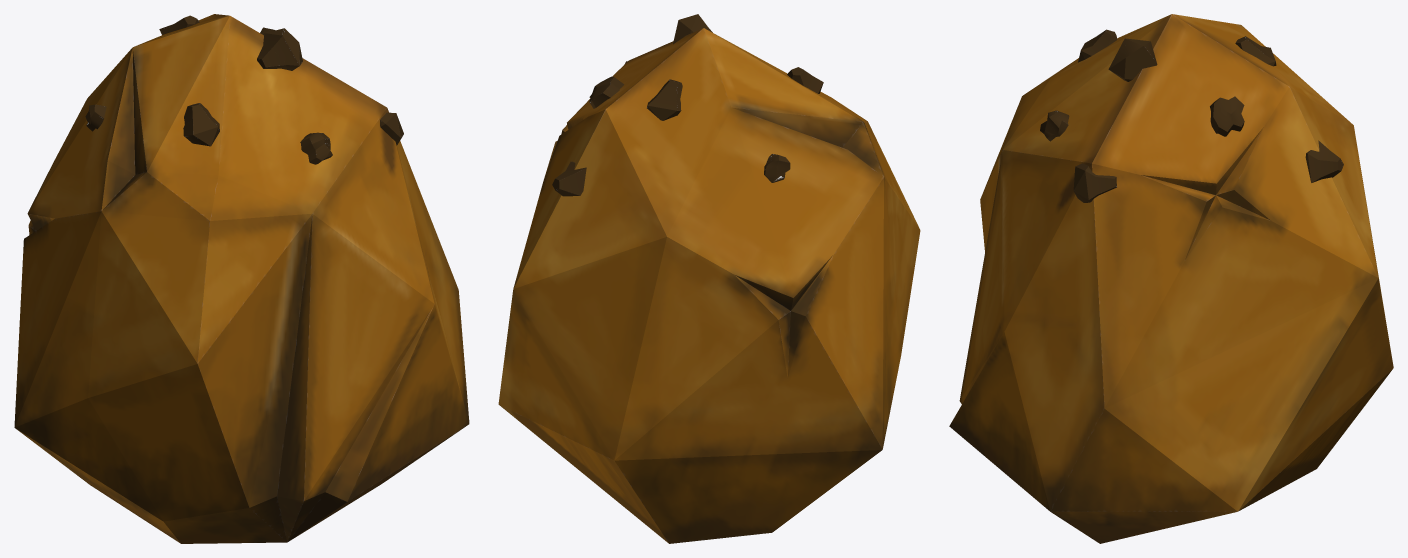
File: BrackyRock2.fbx
3 views of the same model, side by side, from view 1: azimuth 30°, elevation 25°; view 2: azimuth 150°, elevation 25°; view 3: azimuth 270°, elevation 25° (orthographic). The views are drawn at different scales.
Visible parts, largest first — view 1: Cookie, Chunks; view 2: Cookie, Chunks; view 3: Cookie, Chunks.
Boxes of the visible parts, x1,y1,x2,y2 form: Cookie: (14,14,469,543); Chunks: (85,15,403,164); Cookie: (498,28,920,543); Chunks: (552,14,823,196); Cookie: (949,14,1393,543); Chunks: (1040,29,1343,202).
Bounding box in the file's own units: 201 × 229 × 195.
2 materials, 2 textured.
